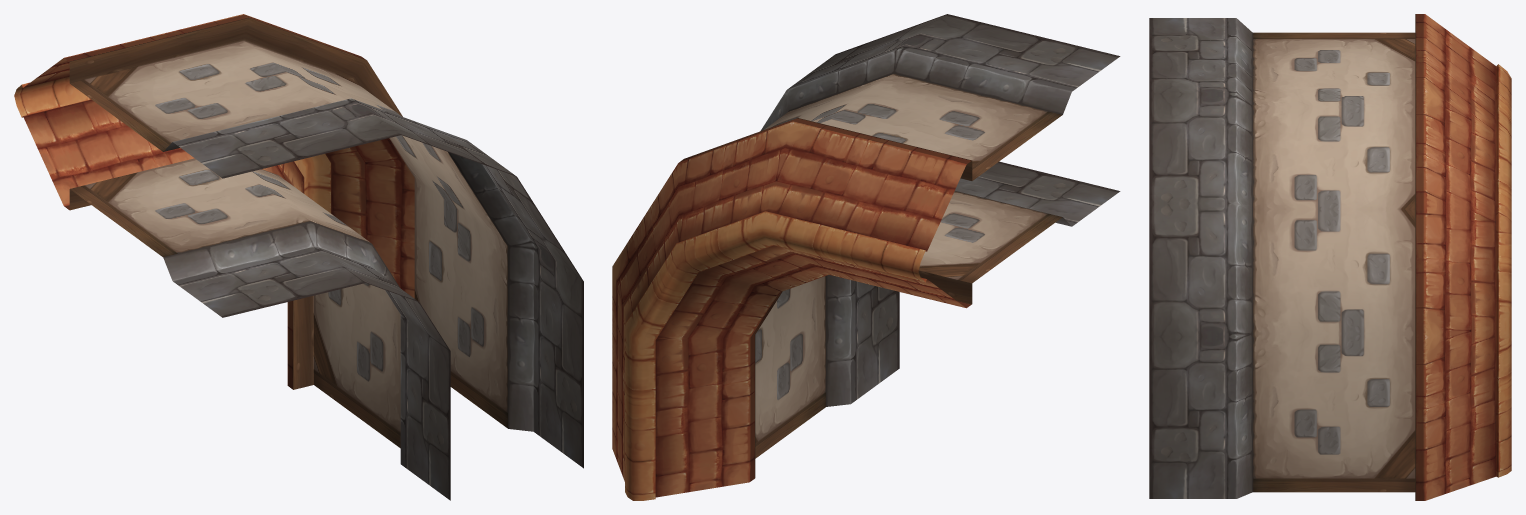
File: Wall_corner.fbx
3 views of the same model, side by side, from view 1: azimuth 30°, elevation 25°; view 2: azimuth 150°, elevation 25°; view 3: azimuth 270°, elevation 25° (orthographic). The views are drawn at different scales.
Visible parts, largest first — view 1: Wall_corner; view 2: Wall_corner; view 3: Wall_corner.
Boxes of the visible parts, box(x1,y1,x2,y2) form: Wall_corner: box(14, 14, 583, 500); Wall_corner: box(612, 14, 1120, 500); Wall_corner: box(1149, 14, 1511, 500).
Size of what is drawn, in the model's own units: 5 by 5 by 4.94.
